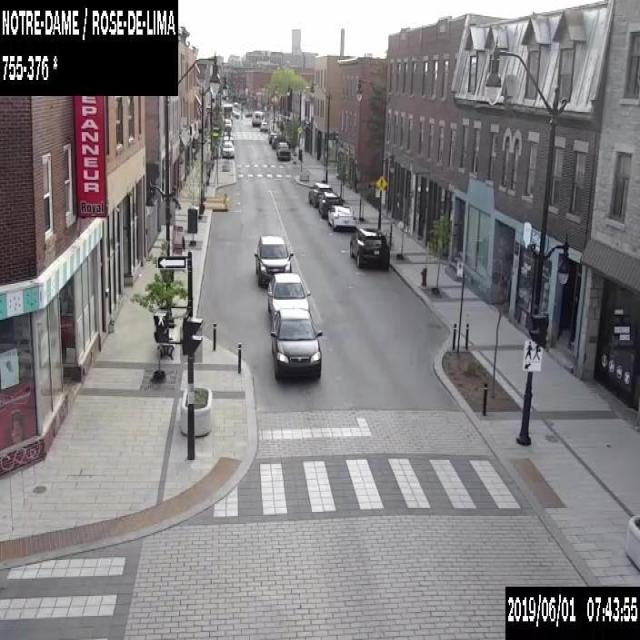bus: (251, 110, 263, 126)
vehicle: (270, 308, 322, 379), (253, 234, 293, 286), (267, 272, 310, 314), (349, 228, 389, 268), (327, 204, 356, 229), (318, 190, 342, 218), (307, 181, 332, 206), (221, 140, 234, 157), (276, 145, 290, 160), (223, 105, 239, 118), (222, 131, 233, 142), (268, 132, 276, 144), (259, 121, 267, 131), (271, 135, 277, 148), (224, 119, 231, 128), (277, 141, 287, 146), (244, 110, 252, 116), (233, 101, 238, 105)
